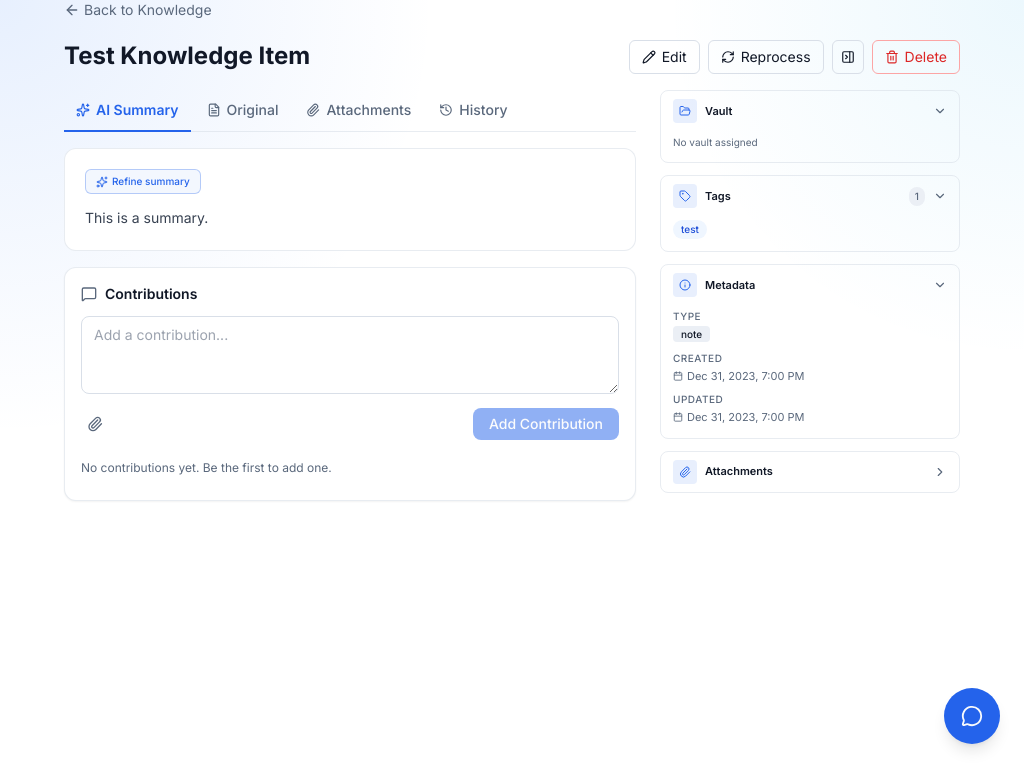
Test: KnowledgeChatPanel › Maximize/Minimize Toggle › Should_ExpandPanel_WhenMaximizeClicked
Expected: the heading "Test Knowledge Item" is shown, [64,40,310,72]
Click the button titled "Chat with this knowledge item" at x=972, y=716, box [944,688,1000,744]
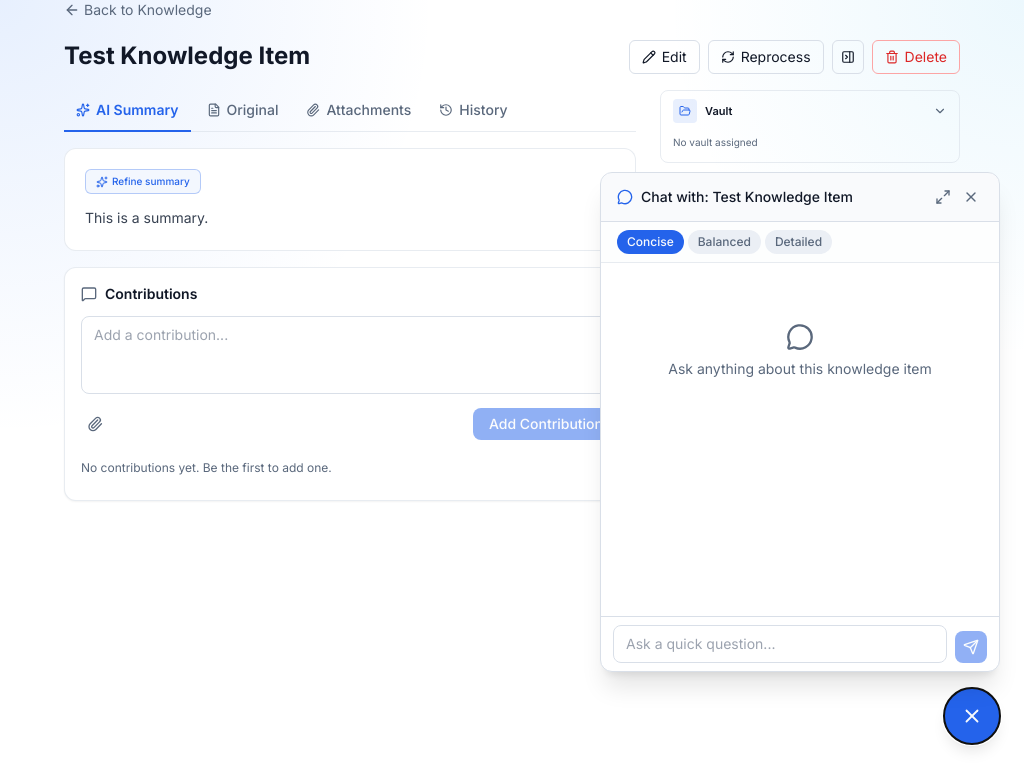
Click the button named "Maximize chat" at x=943, y=197, box [931,185,955,209]
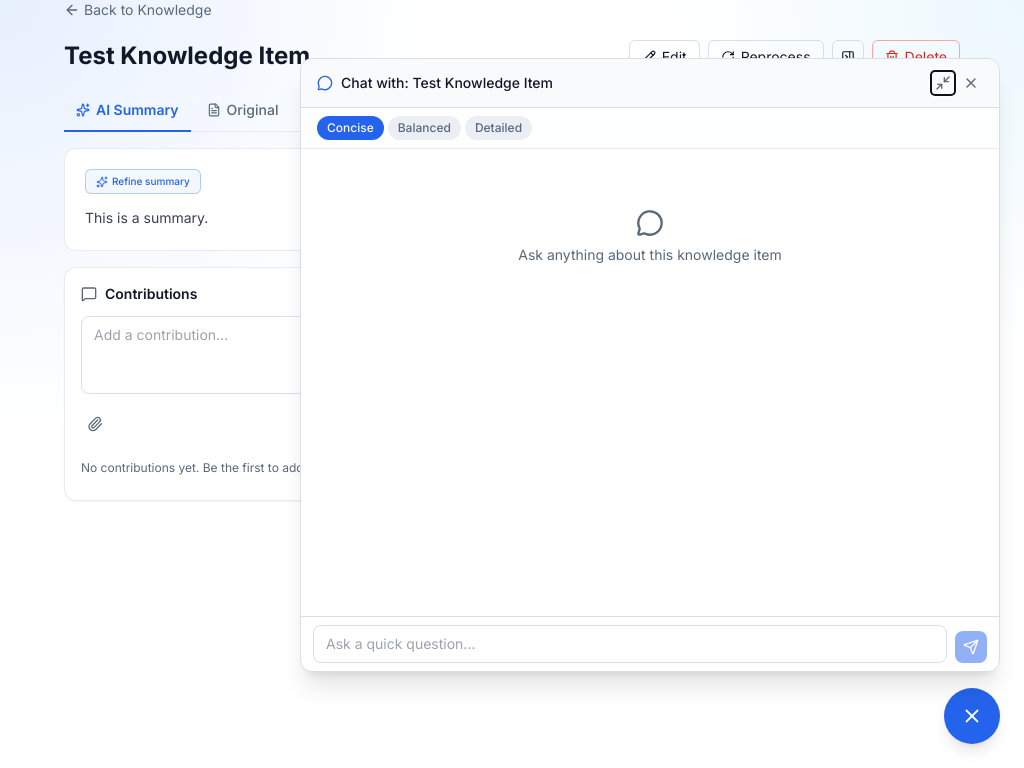
Expected: the button named "Minimize chat" is shown, [931,71,955,95]
